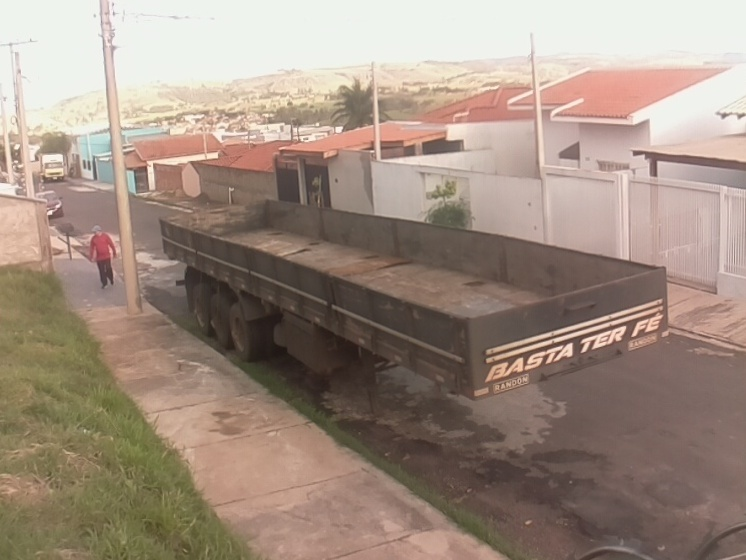person: (86, 224, 121, 291)
